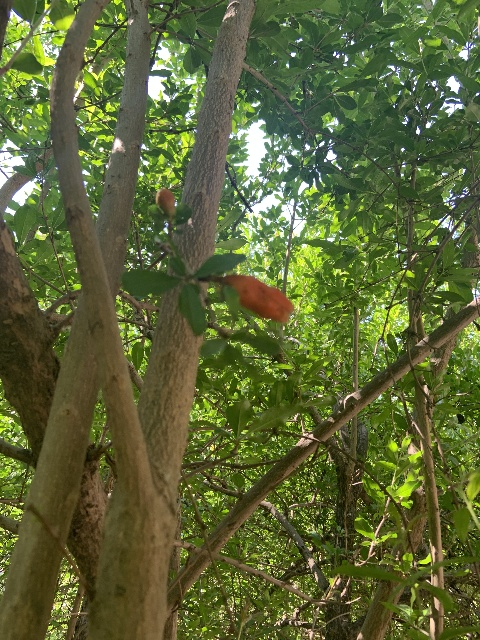bud: (225, 276, 293, 323), (155, 187, 175, 218)
